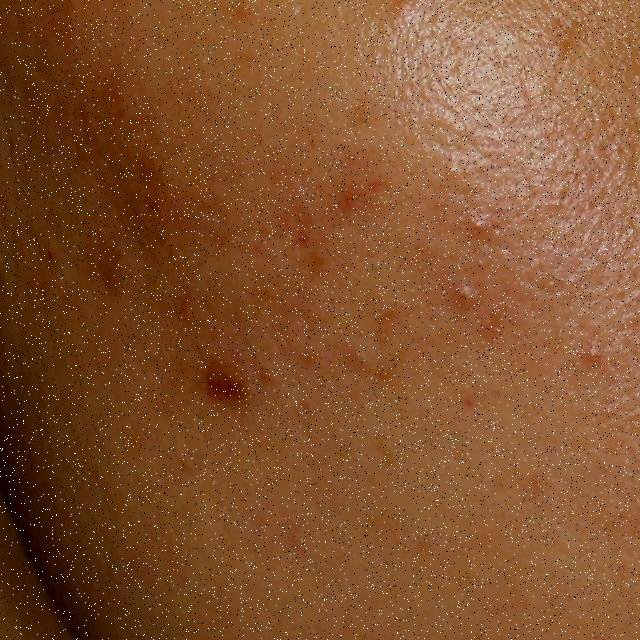nodules: (179, 339, 279, 431)
